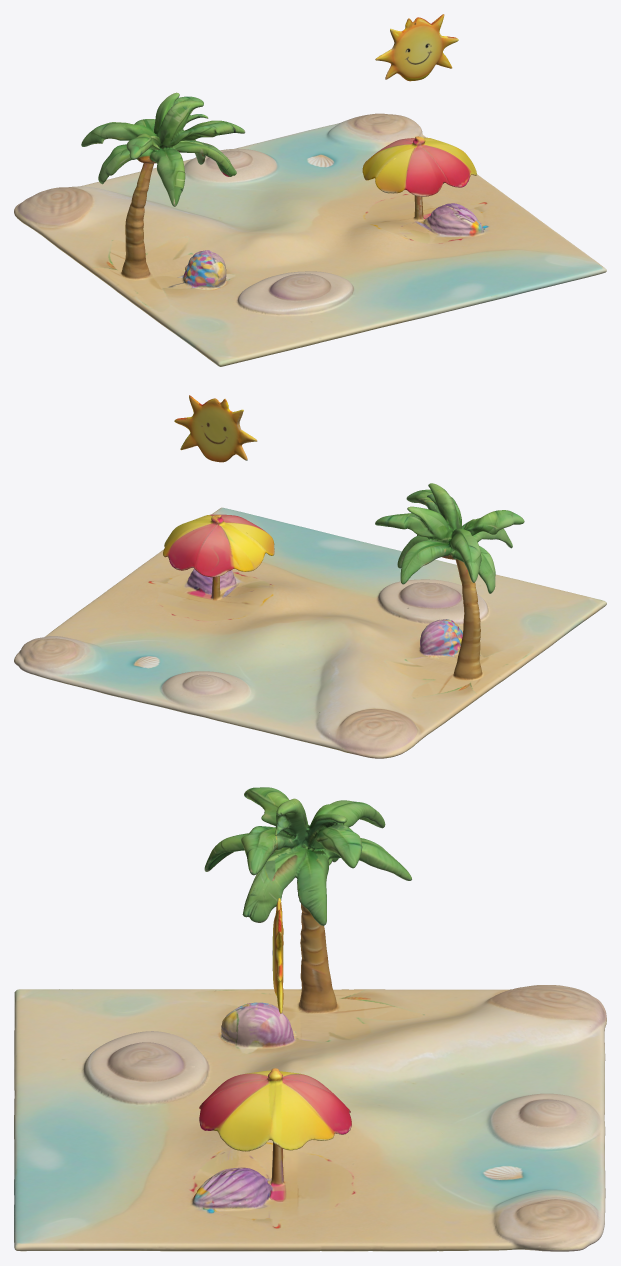
File: beach.glb
The picture shows the model from 3 angles, top to bottom: view 1: azimuth 30°, elevation 25°; view 2: azimuth 150°, elevation 25°; view 3: azimuth 270°, elevation 25°; orthographic projection. The views are drawn at different scales.
Bounding box in the file's own units: 65503 × 34012 × 62841.
1 material, 1 textured.
